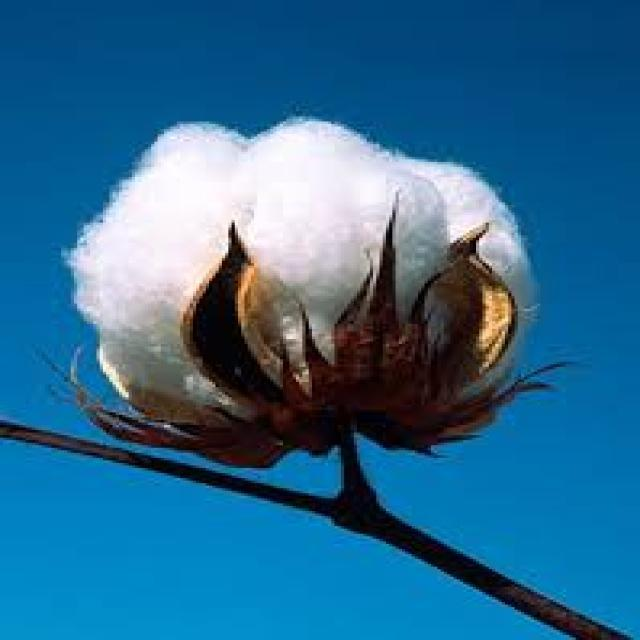Matured Cotton Boll: (63, 105, 543, 453)
